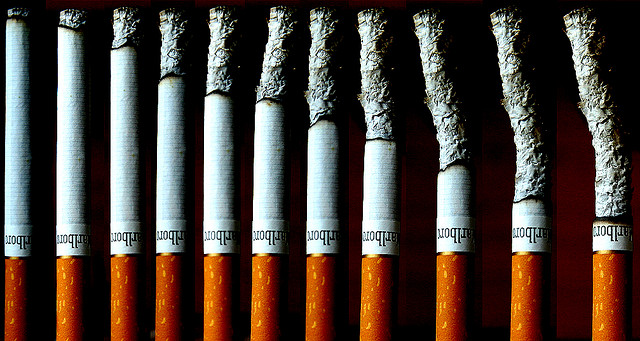cigarette: (557, 6, 640, 340), (479, 9, 558, 341), (407, 12, 484, 341), (343, 10, 412, 341), (249, 6, 302, 341), (299, 4, 348, 341), (45, 8, 92, 341), (149, 6, 195, 341), (196, 4, 241, 341), (101, 4, 145, 341), (3, 4, 40, 341)
